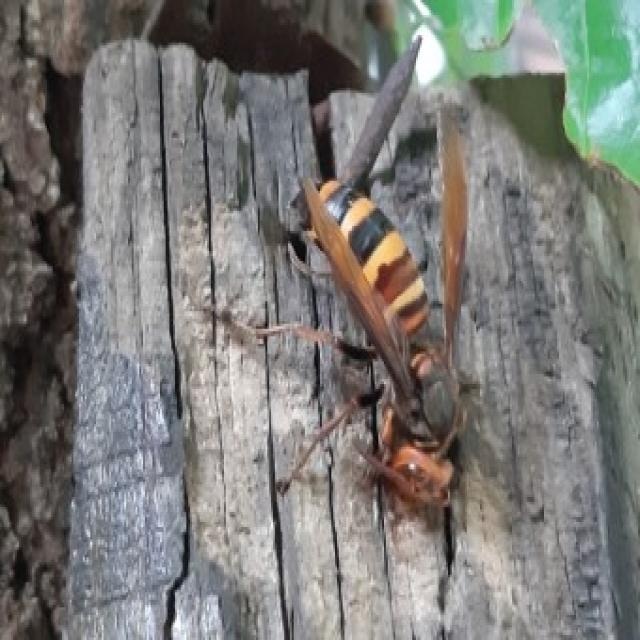Wasp: (301, 142, 478, 529)
